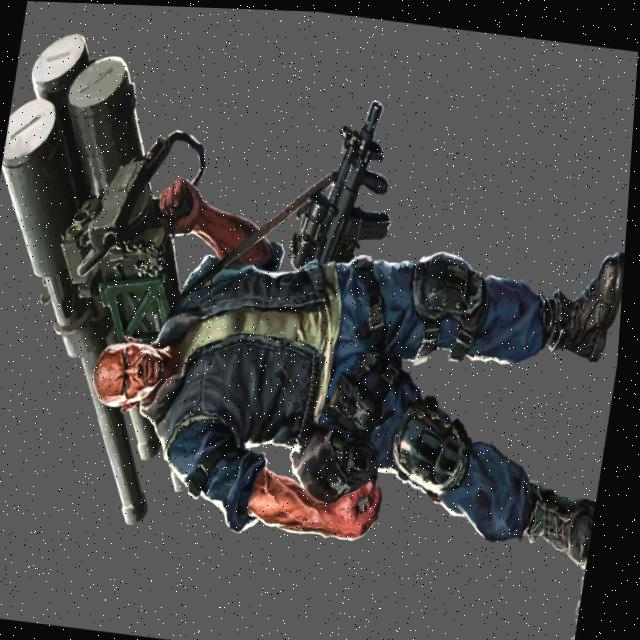firearm: (0, 13, 225, 532), (288, 90, 412, 279)
